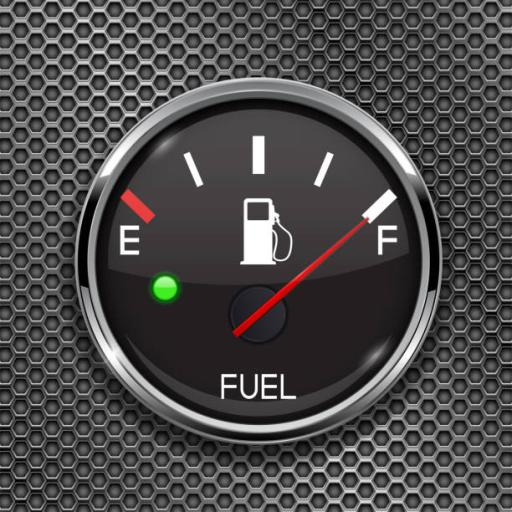empty: (115, 220, 143, 259)
fuel_icon: (234, 190, 294, 269)
full: (375, 222, 402, 260)
guage_area: (64, 76, 482, 447)
needle_center: (225, 281, 300, 347)
needle_tip: (357, 212, 372, 227)
